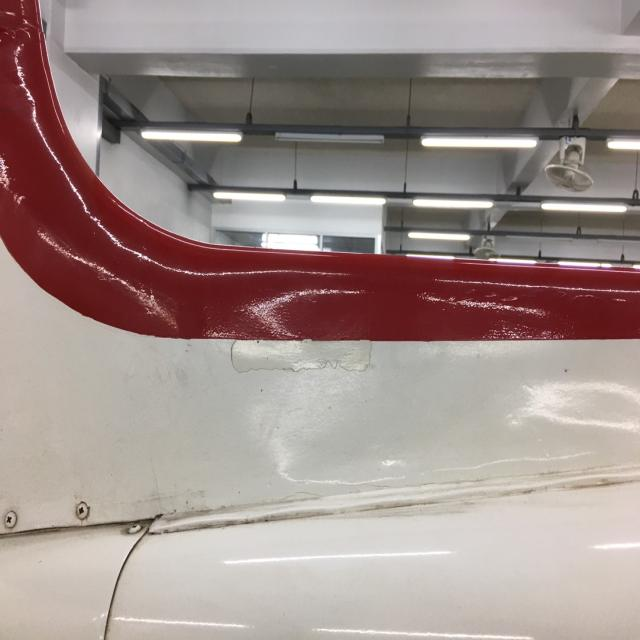Rupture: (226, 334, 376, 380), (264, 488, 326, 511), (336, 480, 404, 494), (74, 498, 92, 524)
